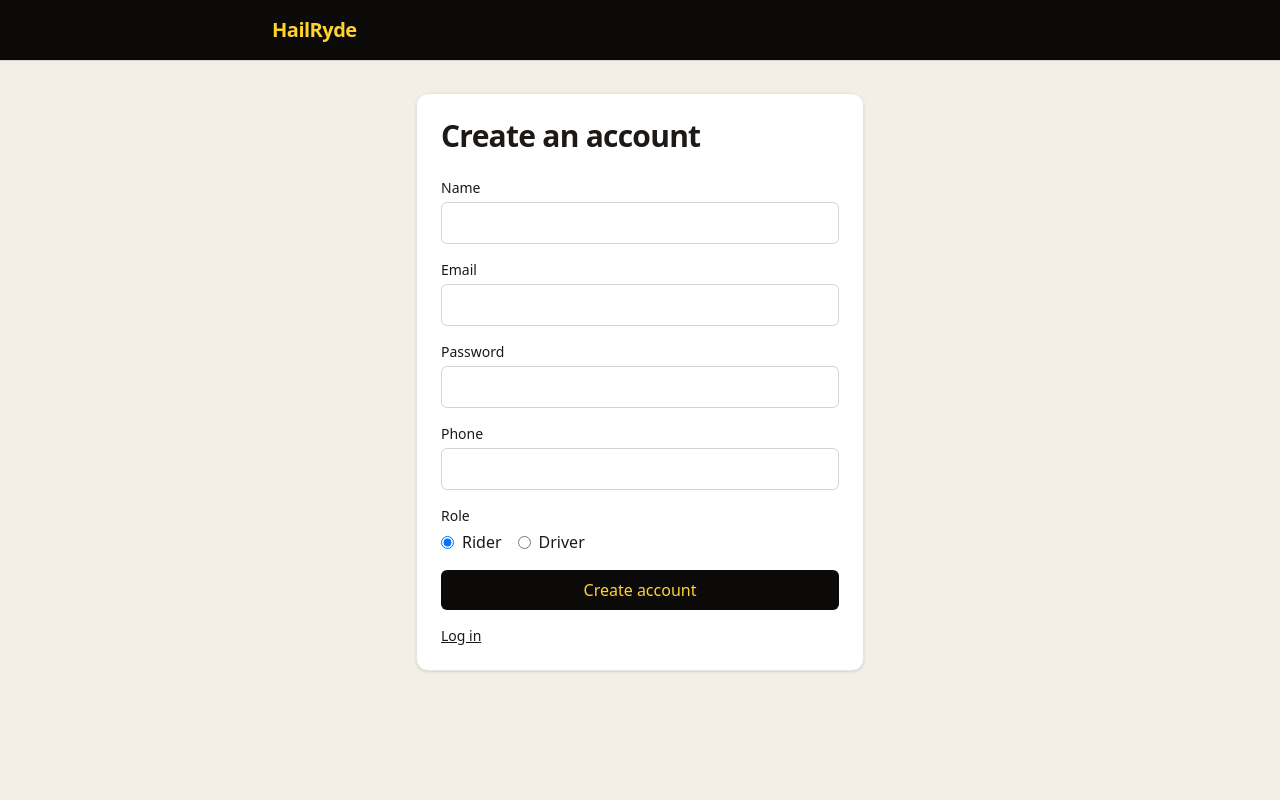
Scenario: shows plate and category only when the role is driver
Check: the field labelled "Plate" is not shown
Check: the radio button labelled "Economy" is not shown
Click the radio button labelled "Driver" at (524, 542), box left=518, top=536, right=531, bottom=548
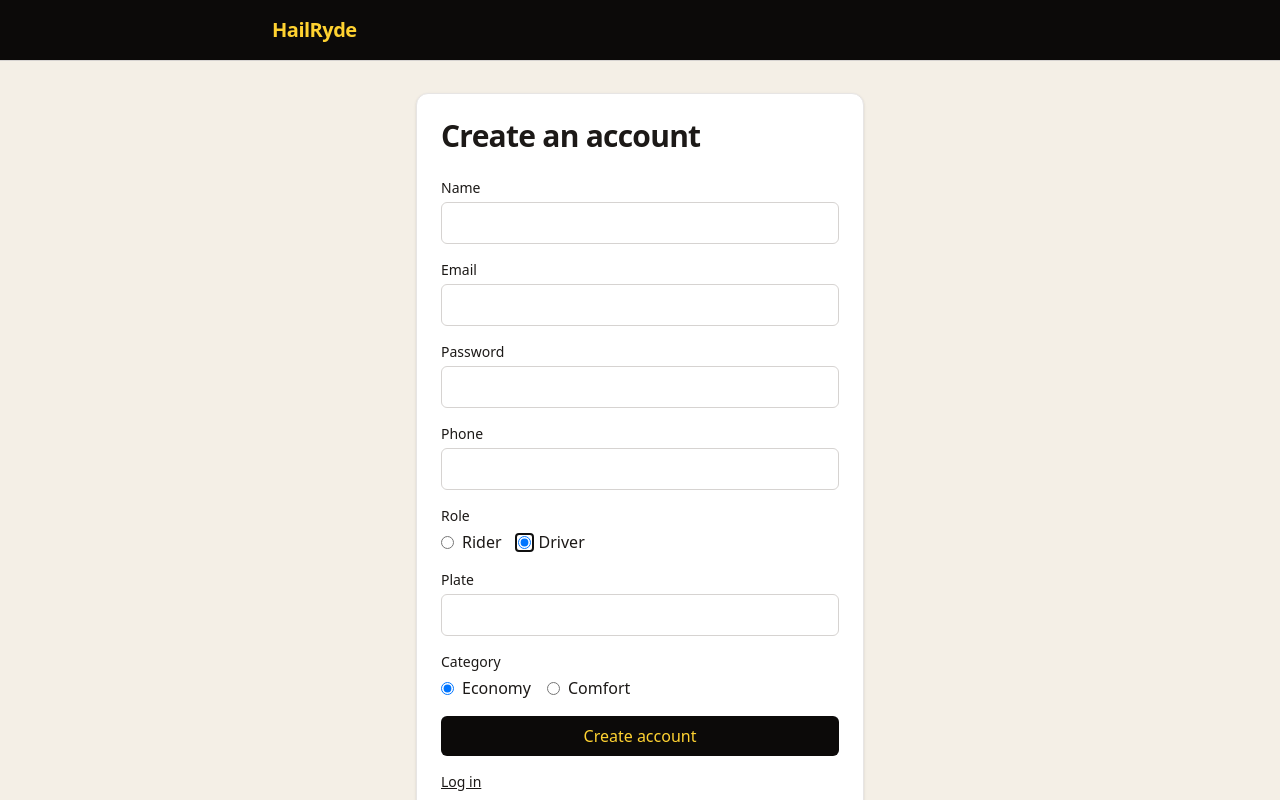
Check: the field labelled "Plate" is shown, box left=441, top=594, right=839, bottom=636
Check: the radio button labelled "Economy" is shown, box left=441, top=682, right=454, bottom=694
Check: the radio button labelled "Comfort" is shown, box left=547, top=682, right=560, bottom=694
